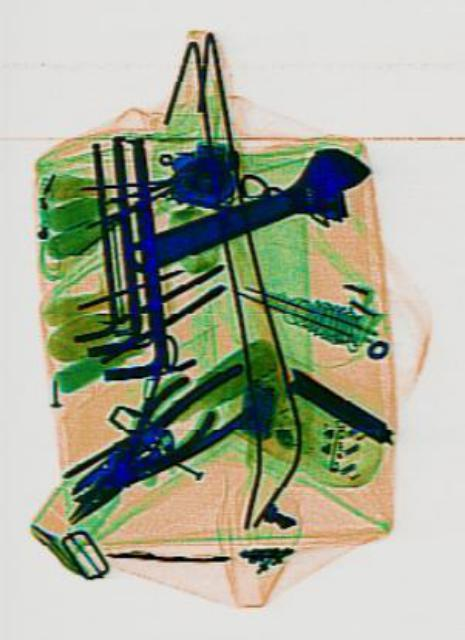Pliers: (58, 355, 259, 525), (50, 362, 218, 550)
Wrench: (115, 130, 376, 302)
